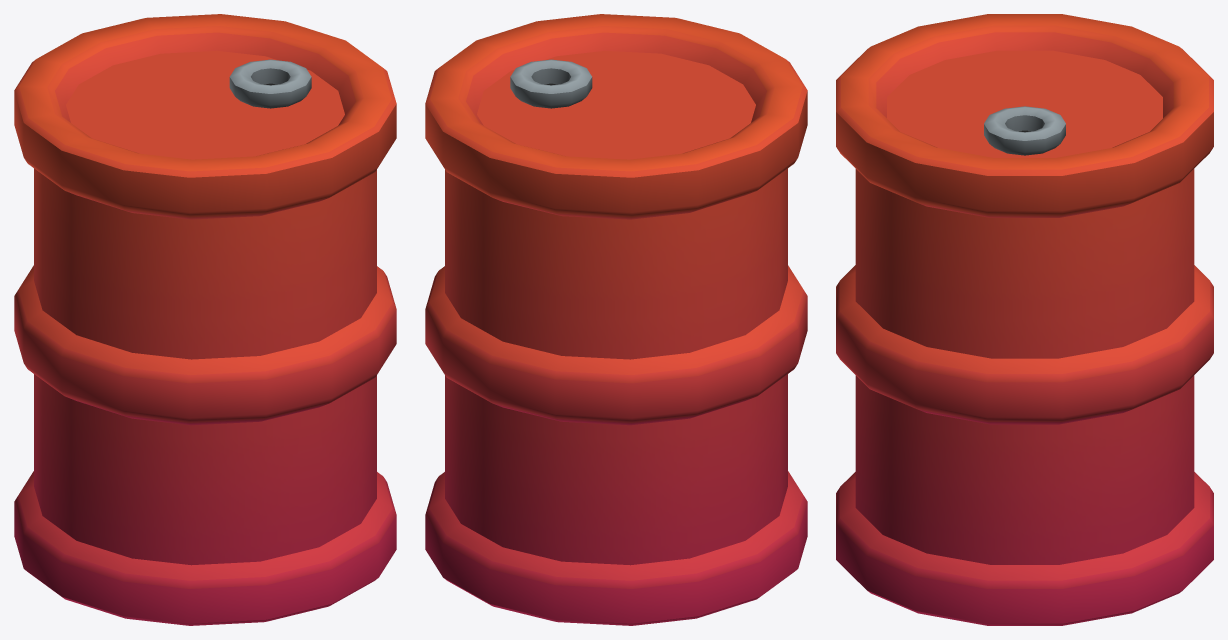
File: prop_barrel_oil.glb
3 renders of one model, left to right at view 1: azimuth 30°, elevation 25°; view 2: azimuth 150°, elevation 25°; view 3: azimuth 270°, elevation 25°, orthographic.
Parts seen in each view (by area): view 1: Fuel_A_Barrel; view 2: Fuel_A_Barrel; view 3: Fuel_A_Barrel.
Boxes of the visible parts, x1,y1,x2,y2 form: Fuel_A_Barrel: (14, 14, 396, 625); Fuel_A_Barrel: (425, 14, 807, 625); Fuel_A_Barrel: (836, 14, 1213, 625).
Size of the model in its own units: 0.75 by 1.01 by 0.75.
1 material, 1 textured.
